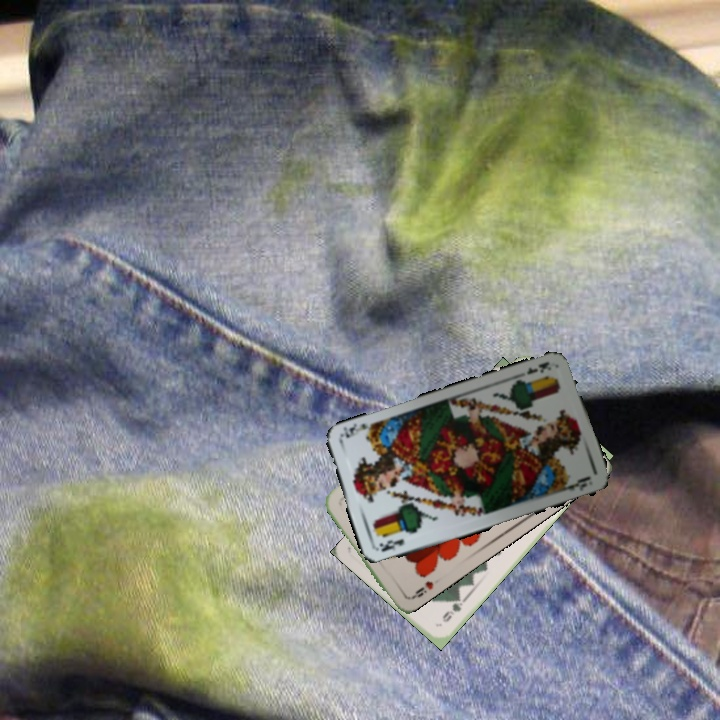EK: (376, 535, 406, 554), (523, 358, 553, 377)
G9: (438, 593, 468, 625)
H9: (405, 577, 436, 602)
